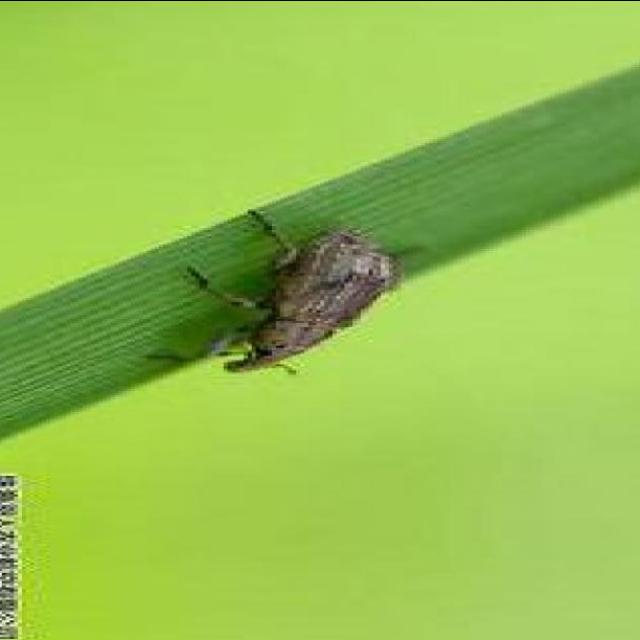ricebug: (227, 229, 402, 370)
